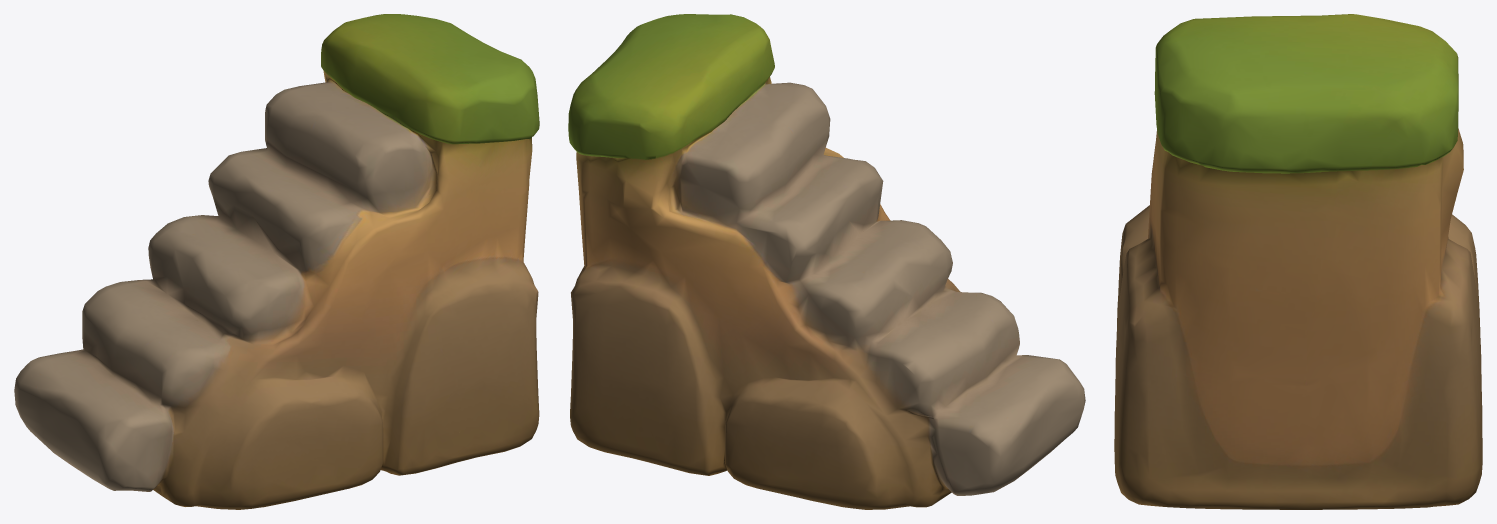
File: stepped stone 3d model.glb
The picture shows the model from 3 angles, left to right: view 1: azimuth 30°, elevation 25°; view 2: azimuth 150°, elevation 25°; view 3: azimuth 270°, elevation 25°; orthographic projection. The views are drawn at different scales.
Parts seen in each view (by area): view 1: tripo_node_a05c7368-249a-487d-bd74-1395dffe39eb; view 2: tripo_node_a05c7368-249a-487d-bd74-1395dffe39eb; view 3: tripo_node_a05c7368-249a-487d-bd74-1395dffe39eb.
Part boxes in pixels (x1,y1,x2,y2): tripo_node_a05c7368-249a-487d-bd74-1395dffe39eb: [14, 14, 539, 509]; tripo_node_a05c7368-249a-487d-bd74-1395dffe39eb: [568, 14, 1085, 509]; tripo_node_a05c7368-249a-487d-bd74-1395dffe39eb: [1114, 14, 1482, 509].
Bounding box in the file's own units: 0.9997 × 0.7619 × 0.5663.
1 material, 1 textured.
